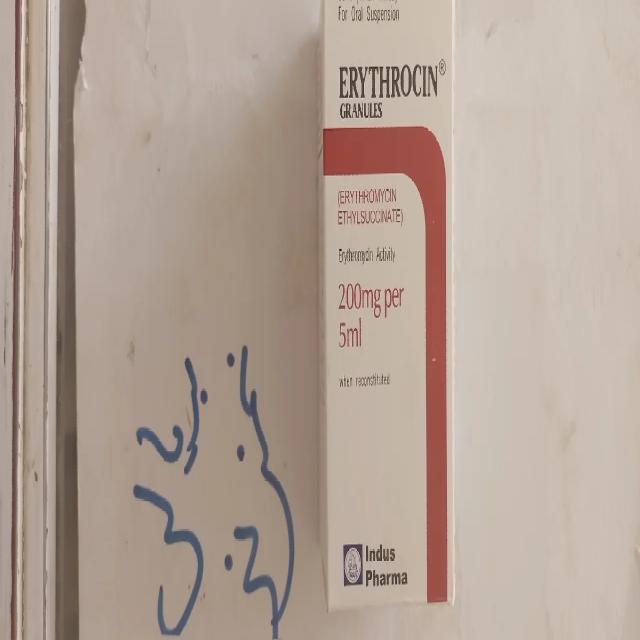drug-name: (336, 64, 441, 102)
